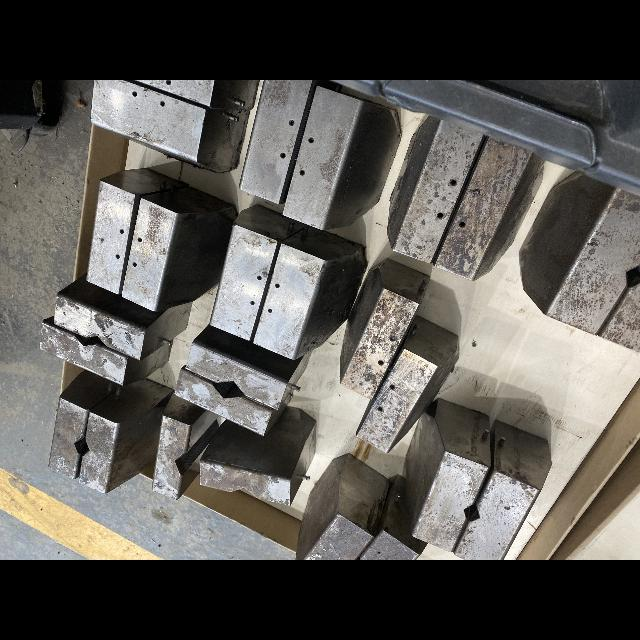Ferrous Metal: (39, 168, 366, 507), (295, 399, 553, 560), (387, 117, 544, 281), (238, 80, 402, 231), (340, 258, 460, 453), (519, 170, 640, 353), (91, 80, 260, 174)
